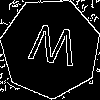W: (25, 23, 80, 76)
